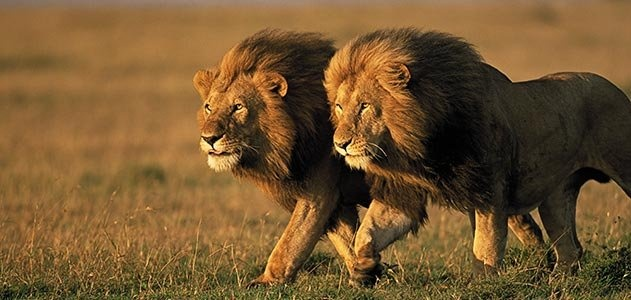lion: (183, 24, 548, 285), (318, 23, 630, 283)
